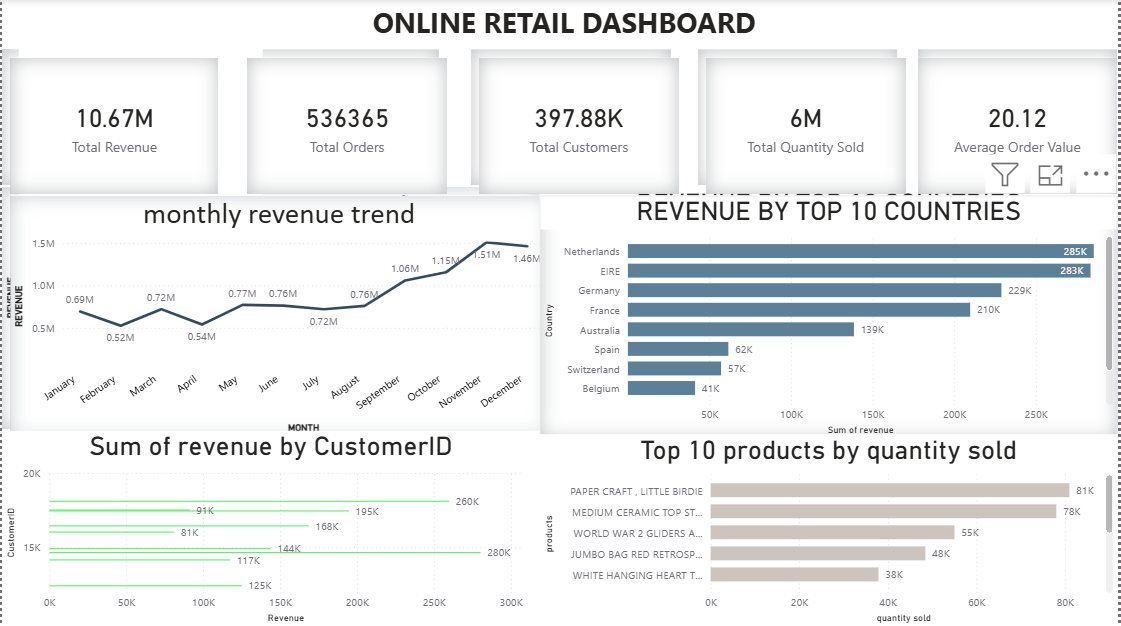

This screenshot's page, from the dashboard's own definition file:
{"tool":"powerbi","page":{"name":"Page 1","canvas":[1280,720],"ordinal":4},"visuals":[{"type":"textbox","box":[10,0,280,280],"z":0},{"type":"textbox","box":[10,0,1270.2,58],"z":1000},{"type":"card","fields":{"Values":["Sum(Online Retail (2).revenue)"]},"box":[0,57.8,239,156.1],"z":2000},{"type":"card","fields":{"Values":["Min(Online Retail (2).InvoiceNo)"]},"box":[271.7,57.8,229.3,156.1],"z":3000},{"type":"card","fields":{"Values":["CountNonNull(Online Retail (2).CustomerID)"]},"box":[537.7,57.8,229.3,156.1],"z":4000},{"type":"card","fields":{"Values":["Sum(Online Retail (2).Quantity)"]},"box":[797.8,57.8,229.3,156.1],"z":5000},{"type":"card","fields":{"Values":["Avg(Online Retail (2).revenue)"]},"box":[1050.3,57.8,229.3,156.1],"z":6000},{"type":"lineChart","title":"monthly revenue trend","fields":{"Y":["Sum(Online Retail (2).revenue)"],"Category":["Online Retail (2).InvoiceDate.Variation.Date Hierarchy.Month"]},"box":[0,215.8,616.7,277.5],"z":7000},{"type":"barChart","title":"REVENUE BY TOP 10 COUNTRIES","fields":{"Category":["Online Retail (2).Country"],"Y":["Sum(Online Retail (2).revenue)"]},"box":[616.7,215.8,662.9,279.4],"z":8000},{"type":"clusteredBarChart","fields":{"Category":["Online Retail (2).CustomerID"],"Y":["Sum(Online Retail (2).revenue)"]},"box":[0,495.3,616.7,225.5],"z":9000},{"type":"clusteredBarChart","title":"Top 10 products by quantity sold","fields":{"Category":["Online Retail (2).Description"],"Y":["Sum(Online Retail (2).Quantity)"]},"box":[616.7,493.3,662.9,221.6],"z":10000}]}

Visuals, with their boxes in screenshot pixels (x1, y1, x2, y2), scaled from the page's 1280x720 canvas onto the 1121x626 screenshot:
textbox: 9,0,254,243
textbox: 9,0,1120,50
card - Sum(Online Retail (2).revenue): 0,50,209,186
card - Min(Online Retail (2).InvoiceNo): 238,50,439,186
card - CountNonNull(Online Retail (2).CustomerID): 471,50,672,186
card - Sum(Online Retail (2).Quantity): 699,50,900,186
card - Avg(Online Retail (2).revenue): 920,50,1120,186
"monthly revenue trend" lineChart: 0,188,540,429
"REVENUE BY TOP 10 COUNTRIES" barChart: 540,188,1120,431
clusteredBarChart - Online Retail (2).CustomerID x Sum(Online Retail (2).revenue): 0,431,540,625
"Top 10 products by quantity sold" clusteredBarChart: 540,429,1120,622
